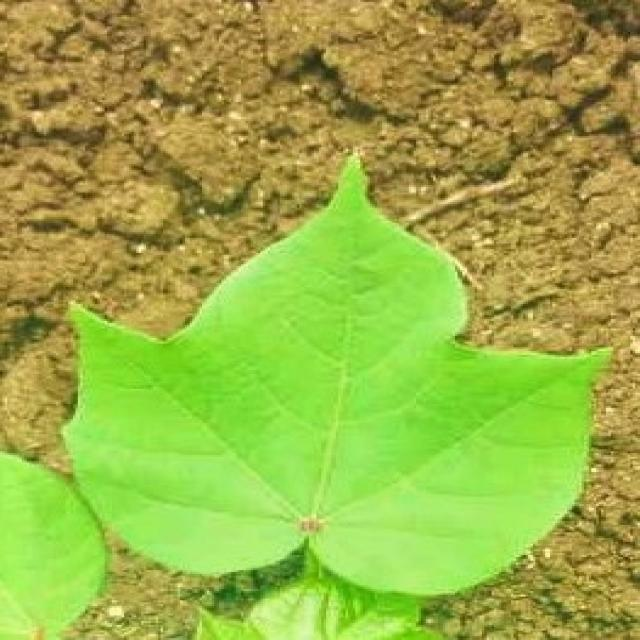Healthy Leaf: (66, 229, 540, 586)
